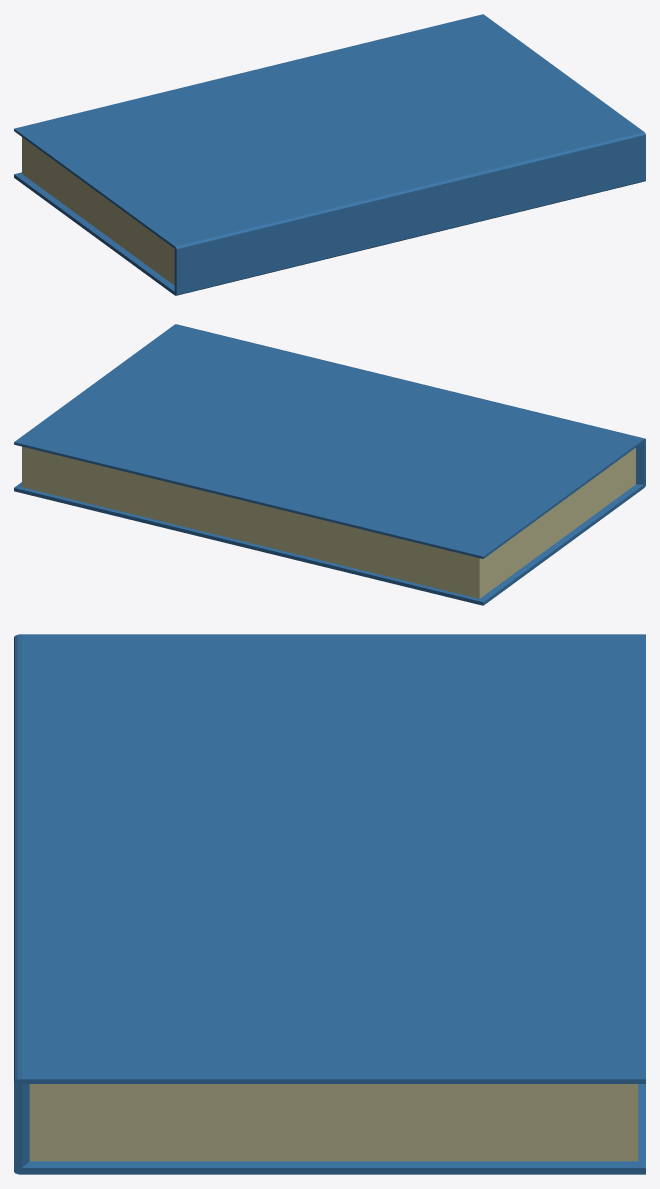
The model's file is Book.fbx.
3 renders of one model, top to bottom at view 1: azimuth 30°, elevation 25°; view 2: azimuth 150°, elevation 25°; view 3: azimuth 270°, elevation 25°, orthographic. The views are drawn at different scales.
Parts seen in each view (by area): view 1: Book; view 2: Book; view 3: Book.
Part boxes in pixels (x1=…): Book: x1=14, y1=14, x2=645, y2=295; Book: x1=14, y1=324, x2=645, y2=605; Book: x1=14, y1=634, x2=645, y2=1174.
Size of the model in its own units: 50 by 5 by 30.
